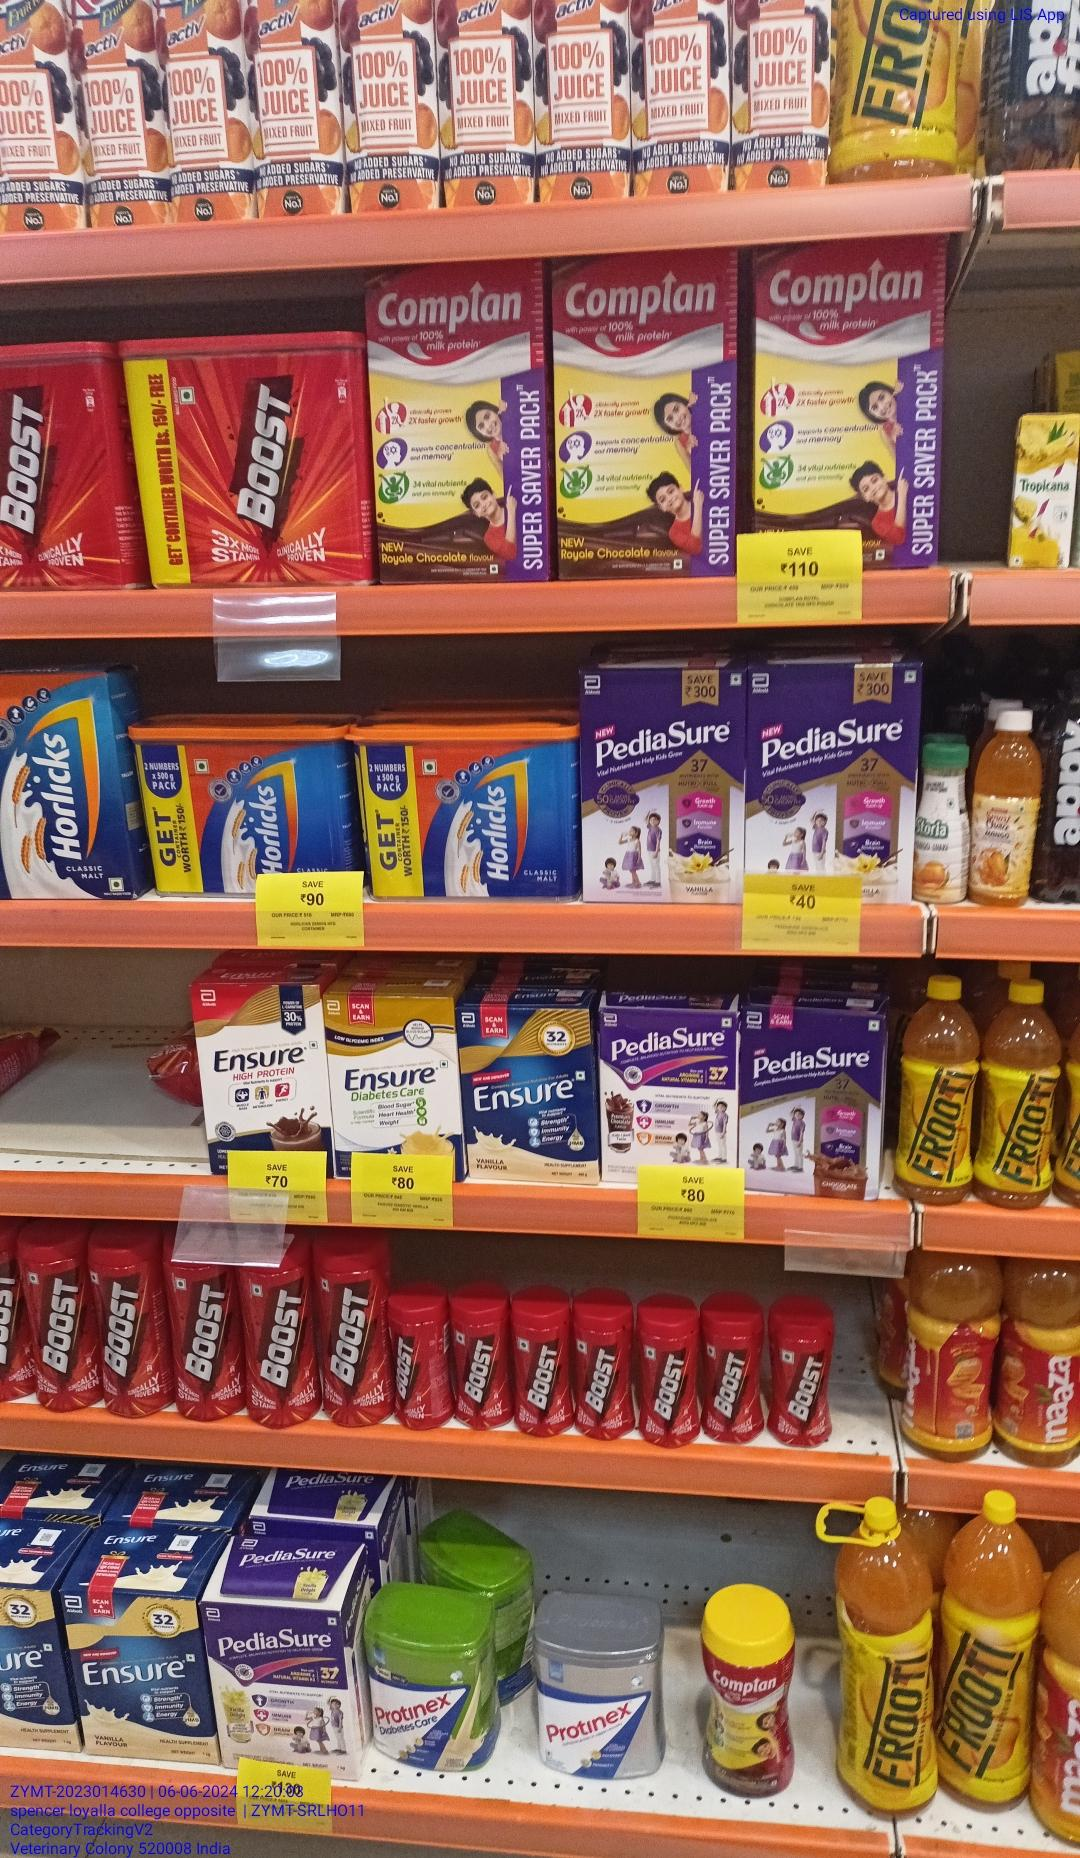COMPLAN_CHOCOLATE_200_GMS_JAR: (706, 1615, 796, 1804)
ENSURE_VANILLA_400_G_PACK: (459, 1007, 598, 1189)
HORLICK_MALT_1_KG_CONTAINER: (354, 720, 567, 896), (132, 721, 345, 892)
PEDIASURE_CHOCOLATE_500_G_PACK: (744, 1003, 879, 1222)
PROTINEX_ORIGINAL_400_G_JAR: (532, 1633, 662, 1785)
